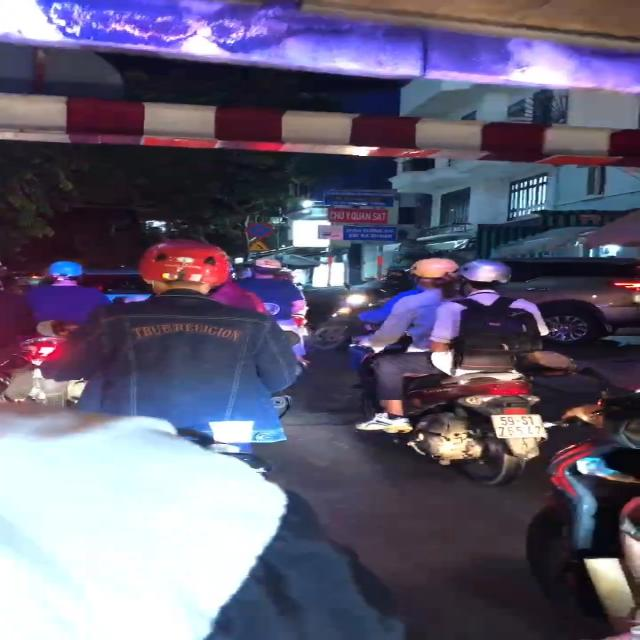Bien bao cho ngoat nguy hiem: (243, 240, 272, 252)
